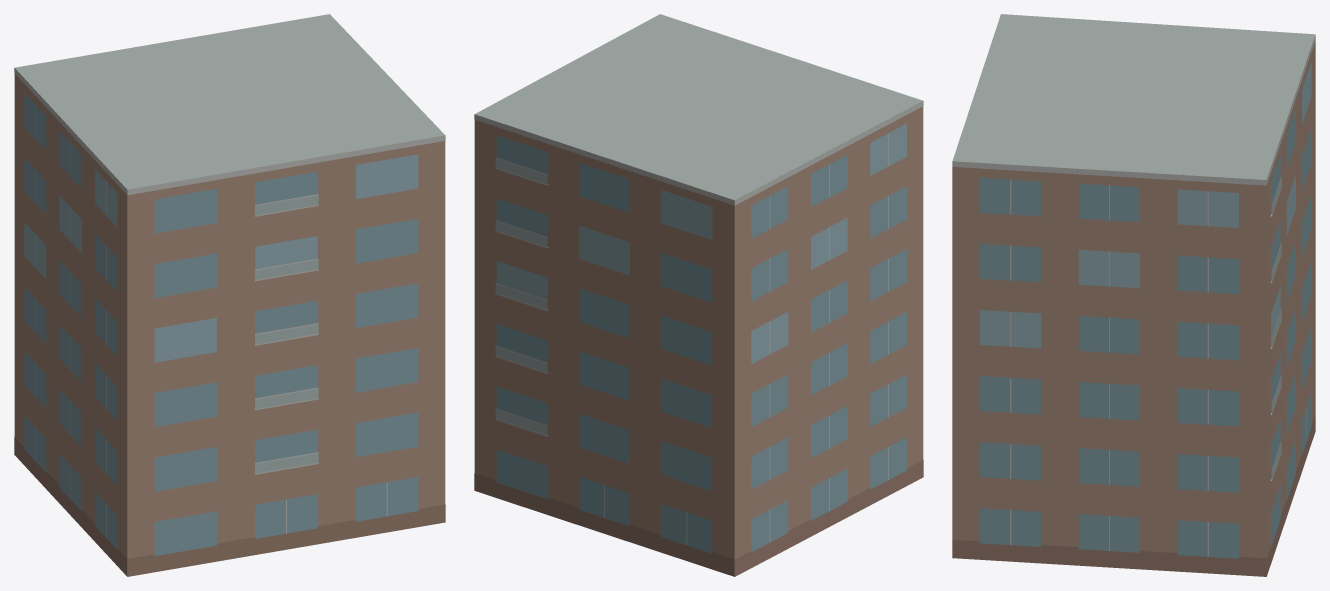
Rendered from survey-upis-32838343.glb.
3 renders of one model, left to right at view 1: azimuth 30°, elevation 25°; view 2: azimuth 150°, elevation 25°; view 3: azimuth 270°, elevation 25°, orthographic. The views are drawn at different scales.
Parts seen in each view (by area): view 1: survey-upis-32838343.tmp; view 2: survey-upis-32838343.tmp; view 3: survey-upis-32838343.tmp.
Boxes of the visible parts, x1=… form: survey-upis-32838343.tmp: x1=14, y1=14, x2=445, y2=576; survey-upis-32838343.tmp: x1=474, y1=14, x2=923, y2=576; survey-upis-32838343.tmp: x1=952, y1=14, x2=1315, y2=576.
Size of the model in its own units: 15.54 by 17.3 by 14.36.
